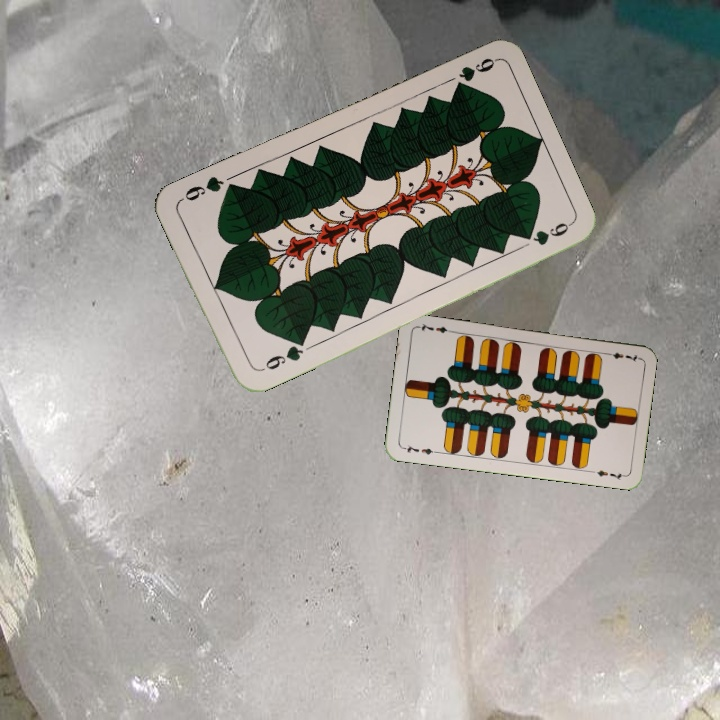E7: (399, 440, 439, 457), (601, 348, 641, 364)
G9: (254, 338, 307, 375), (450, 53, 498, 93)
